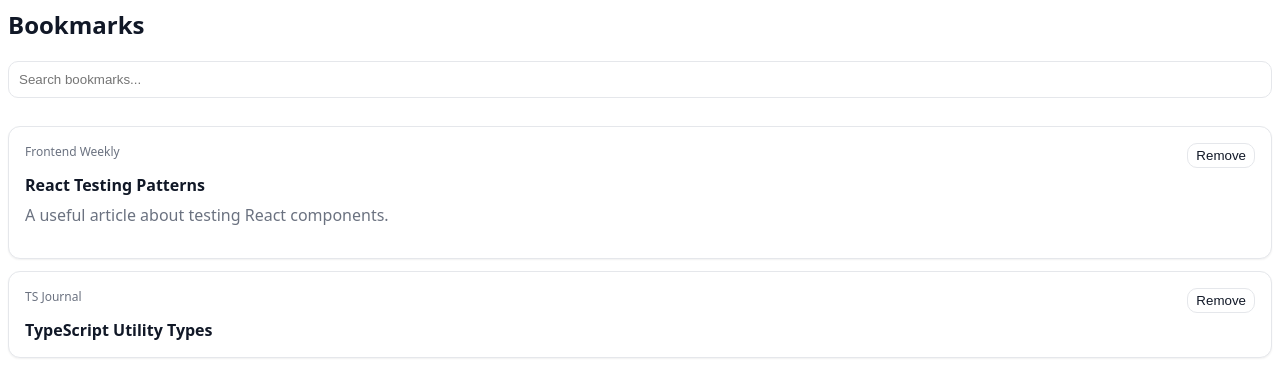
Test: BookmarksView › removes a bookmark and updates the list
Click the button "Remove" in the row of "Frontend Weekly". click: (1221, 155)
box: x1=1187 y1=143 x2=1255 y2=168
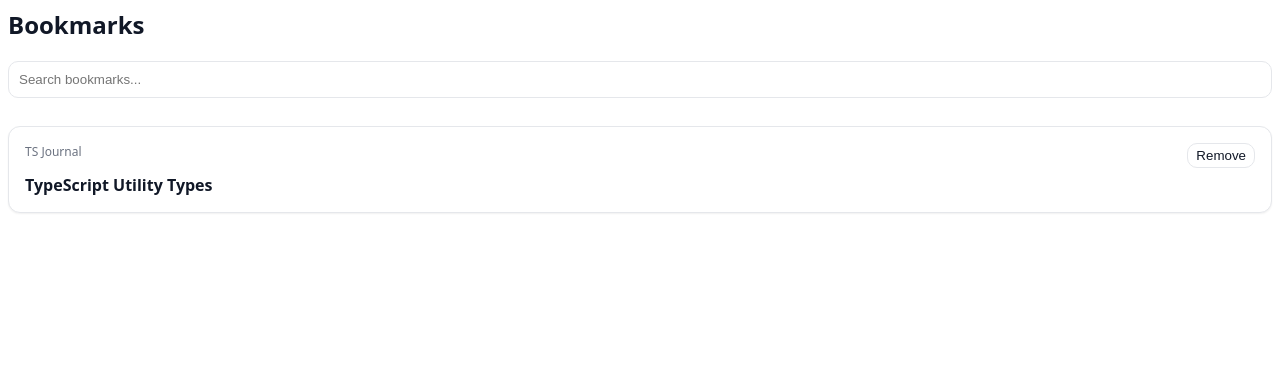
Expected: the link "TypeScript Utility Types" is shown, x1=25 y1=174 x2=212 y2=196
Expected: the link "React Testing Patterns" is gone
